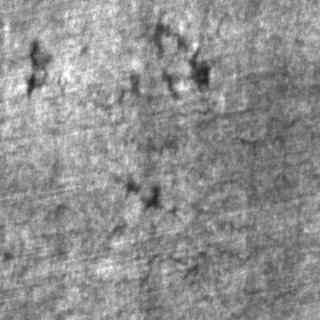crazing: (40, 172, 244, 284), (52, 7, 236, 109)
